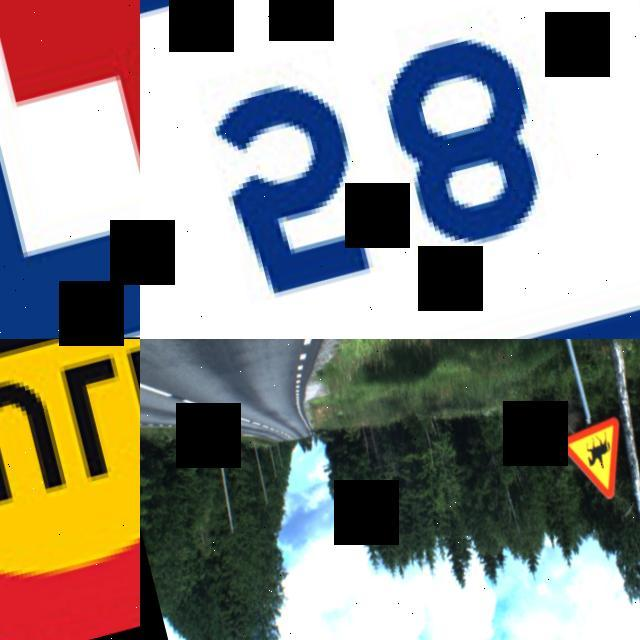0: (0, 0, 140, 339)
154: (553, 410, 640, 512)
81: (140, 0, 640, 339)
Stop at customs: (0, 339, 140, 640)
